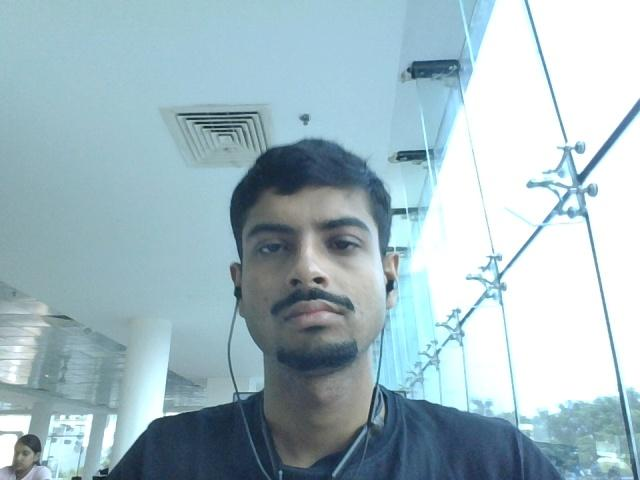confident: (198, 126, 398, 432)
